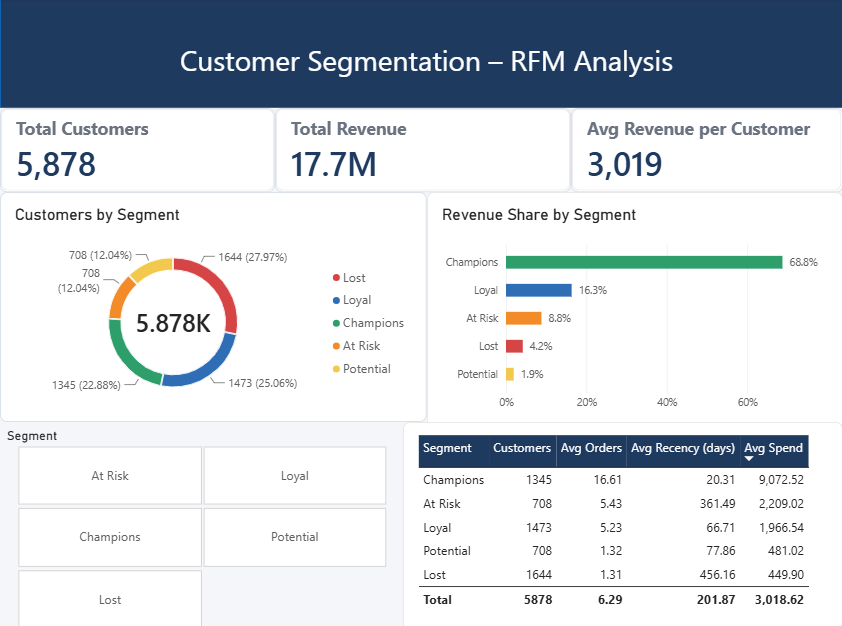

The dashboard page shown, as its layout file describes it:
{"tool":"powerbi","page":{"name":"Page 1","canvas":[960,720],"ordinal":0},"visuals":[{"type":"shape","box":[0,0,960.4,125.3],"z":0},{"type":"textbox","box":[11.4,47.8,949,69.5],"z":1000},{"type":"cardVisual","title":"Total Customers","fields":{"Data":["rfm_segments.Avg Revenue per Customer"]},"box":[650.5,125.3,309.9,95.7],"z":2000},{"type":"cardVisual","title":"Total Customers","fields":{"Data":["rfm_segments.Revenue Card"]},"box":[313.3,125.3,337.2,95.7],"z":3000},{"type":"cardVisual","title":"Total Customers","fields":{"Data":["rfm_segments.Total Customers"]},"box":[0,125.3,313.3,95.7],"z":4000},{"type":"donutChart","title":"Customers by Segment","fields":{"Y":["Count(rfm_segments.CustomerID)"],"Category":["rfm_segments.Segment"]},"box":[0,221,486.5,262],"z":5000},{"type":"clusteredBarChart","title":"Revenue Share by Segment","fields":{"Category":["rfm_segments.Segment"],"Y":["rfm_segments.Revenue %"]},"box":[486.5,221,473.9,270],"z":6000},{"type":"slicer","fields":{"Values":["rfm_segments.Segment"]},"box":[0,491,459.1,229],"z":7000},{"type":"tableEx","fields":{"Values":["rfm_segments.Segment","rfm_segments.CustomerID","Avg(rfm_segments.Frequency)","Avg(rfm_segments.Recency)","Avg(rfm_segments.Monetary)"]},"box":[459.1,483,501.3,237],"z":8000}]}

Visuals, with their boxes in screenshot pixels (x1, y1, x2, y2), scaled from the page's 960x720 canvas onto the 842x626 screenshot:
shape: box(0, 0, 841, 109)
textbox: box(10, 42, 841, 102)
"Total Customers" cardVisual: box(571, 109, 841, 192)
"Total Customers" cardVisual: box(275, 109, 571, 192)
"Total Customers" cardVisual: box(0, 109, 275, 192)
"Customers by Segment" donutChart: box(0, 192, 427, 420)
"Revenue Share by Segment" clusteredBarChart: box(427, 192, 841, 427)
slicer - rfm_segments.Segment: box(0, 427, 403, 625)
tableEx - rfm_segments.Segment x rfm_segments.CustomerID: box(403, 420, 841, 625)
